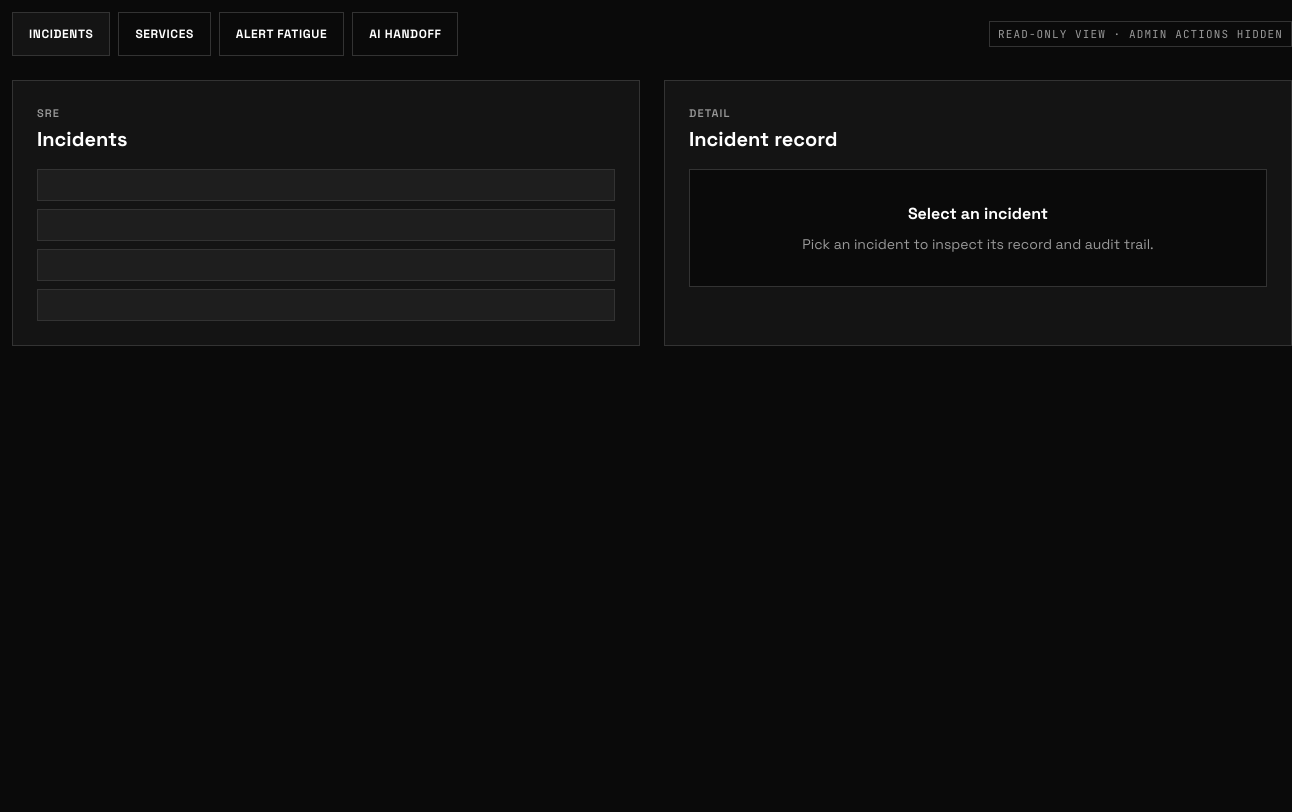
Test: OperationsIntelligence › renders fatigue report detail on the fatigue tab
Click the button "Alert fatigue": x=282, y=34 [219,12,344,56]
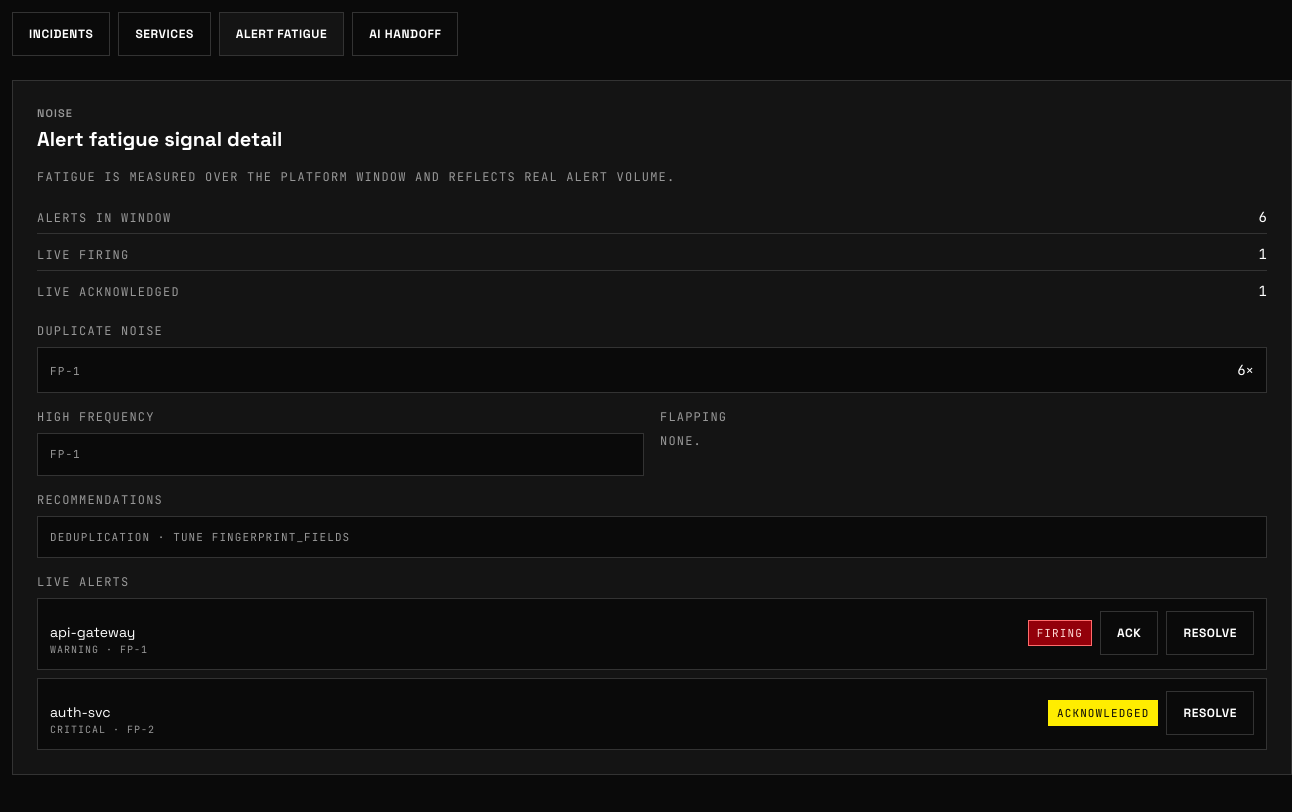
expect the list item "DEDUPLICATION · TUNE FINGERPRINT_FIELDS" is shown: met, box [37,516,1267,558]
expect the text "High frequency" is shown: met, box [37,409,155,425]
expect the text "Duplicate noise" is shown: met, box [37,323,163,339]
